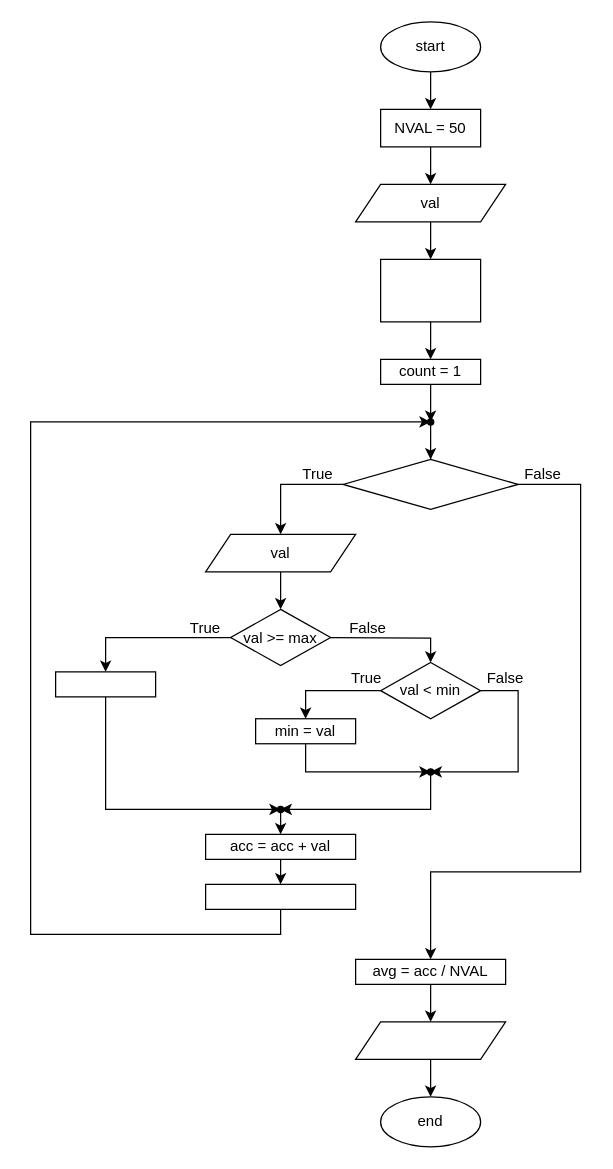
The diagram is 613 pixels wide and 1169 high, and some of its shapes have lost their labels. The shapes that lost their labels are listed below. From the top down, each one's centre as x and y in pixels, then its label:
the point at 430,290: min = val max = val acc = val
the point at 430,483: count < NVAL
the point at 105,684: max = val
the point at 280,896: count = count + 1
the point at 430,1040: min max, avg
